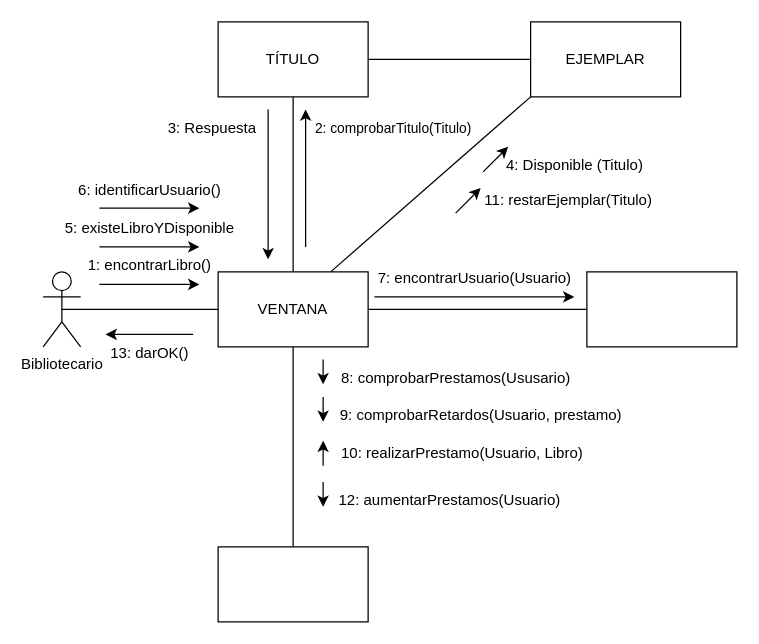
Some shapes in this 759 by 644 pixel diagram are drawn without their labels. The centre of each missing label's shape, as x and y in pixels:
INFO USUARIOS: [661,309]
PRÉSTAMO: [292,584]
